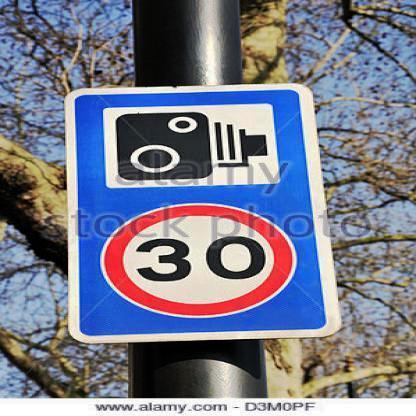Speed Limit -30-: (100, 205, 303, 320)
